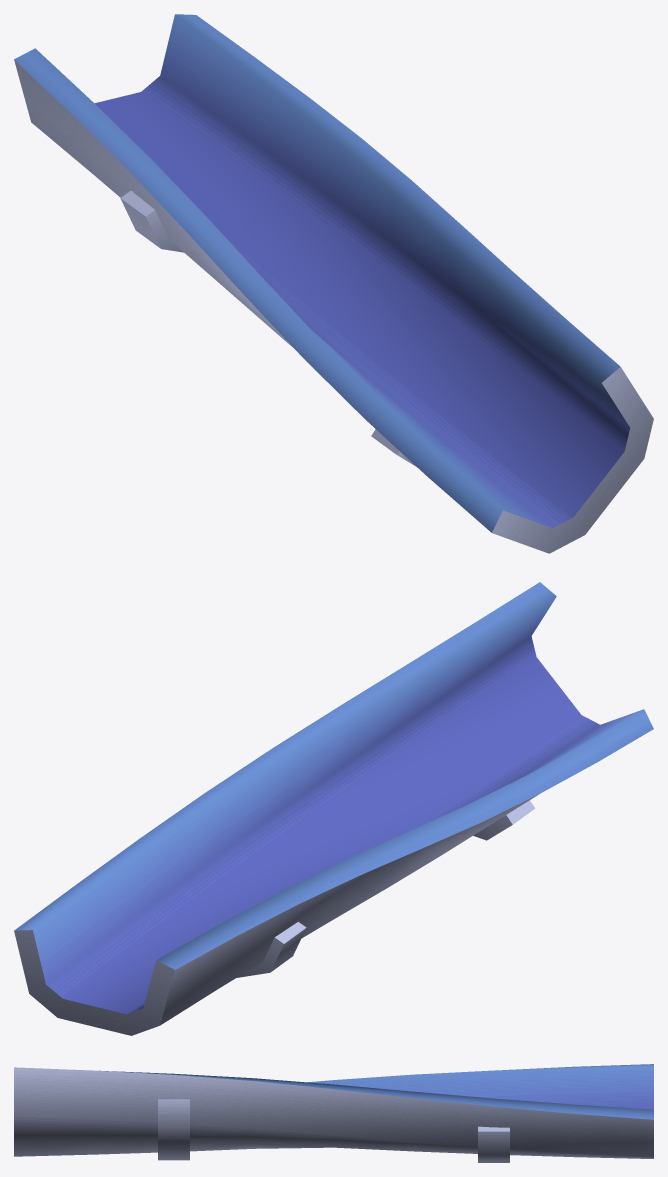
File: coaster-flume-straight-skew-right.glb
3 views of the same model, one above another, from view 1: azimuth 30°, elevation 25°; view 2: azimuth 150°, elevation 25°; view 3: azimuth 270°, elevation 25° (orthographic). The views are drawn at different scales.
Parts seen in each view (by area): view 1: coaster-flume-straight-skew-right; view 2: coaster-flume-straight-skew-right; view 3: coaster-flume-straight-skew-right.
Part boxes in pixels (x1=…): coaster-flume-straight-skew-right: x1=14, y1=14, x2=653, y2=553; coaster-flume-straight-skew-right: x1=14, y1=582, x2=653, y2=1035; coaster-flume-straight-skew-right: x1=14, y1=1064, x2=653, y2=1162.
Size of the model in its own units: 2.91 by 2.21 by 12.
1 material, 1 textured.
